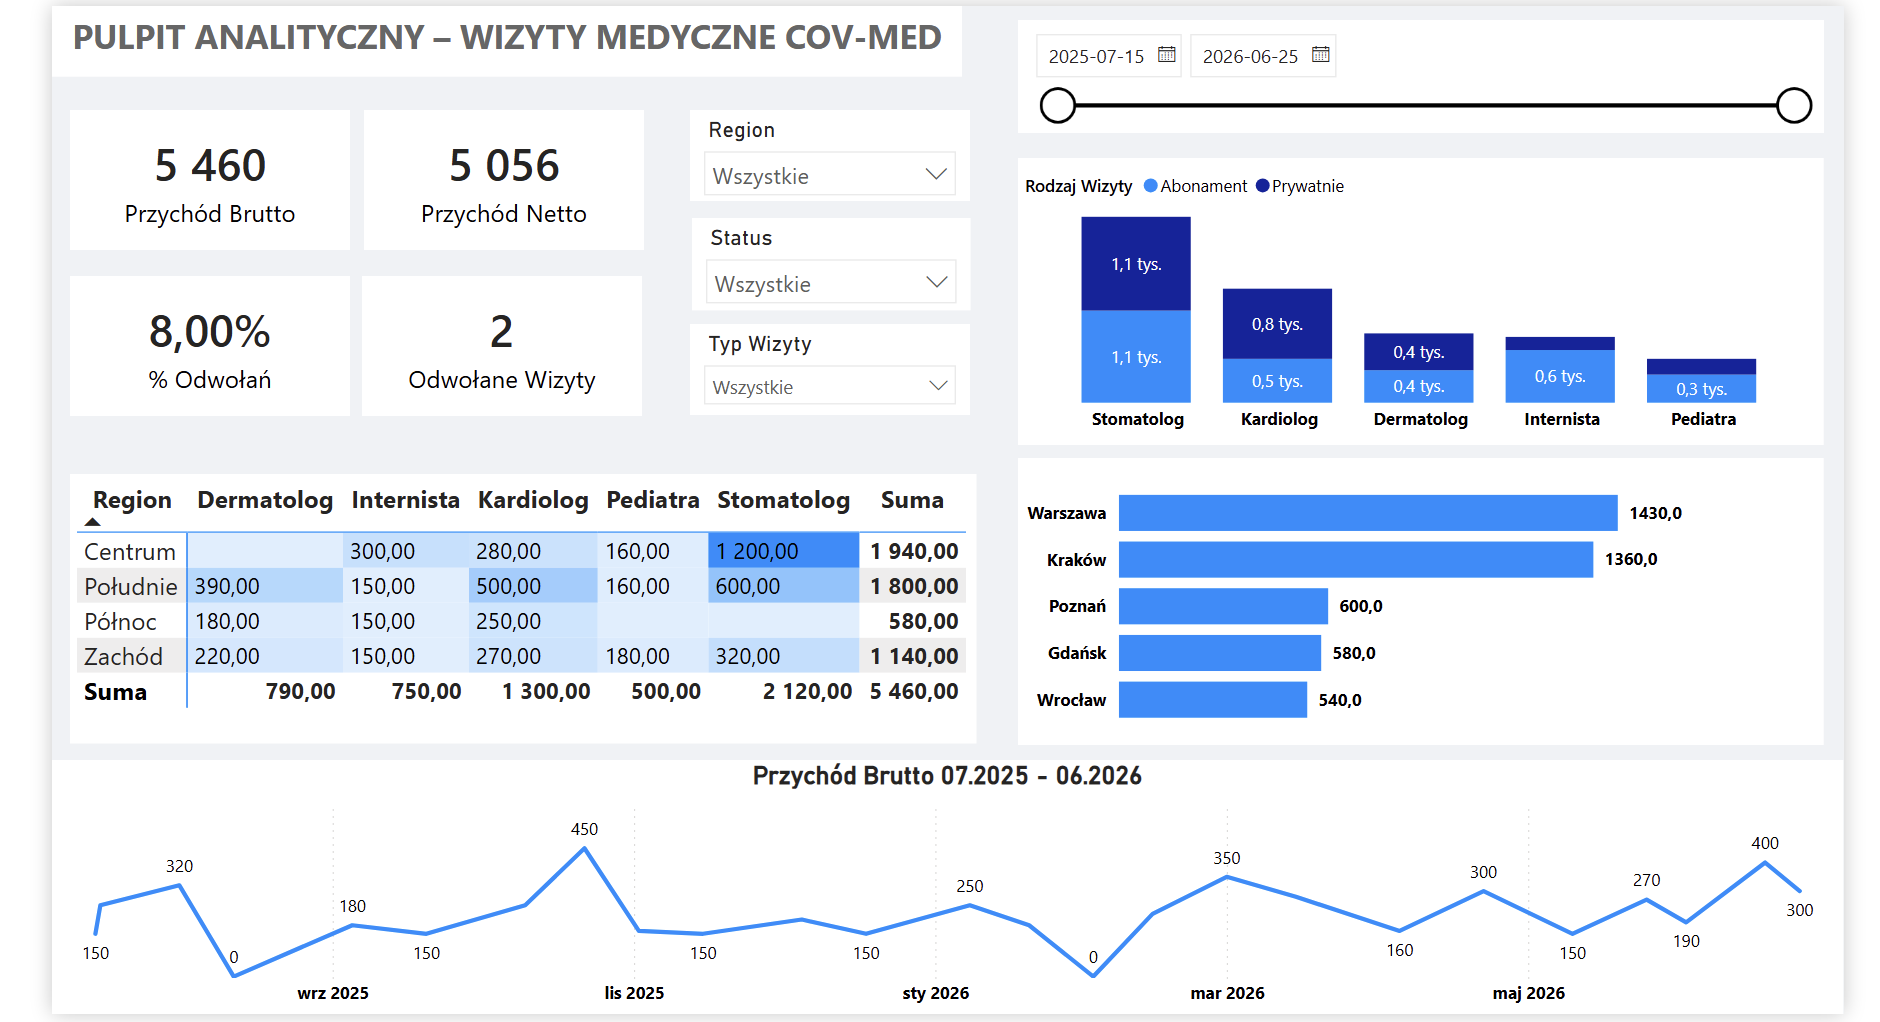

What the dashboard file says about the page in this screenshot:
{"tool":"powerbi","page":{"name":"Wizyty Medyczne","canvas":[1280,720],"ordinal":0},"visuals":[{"type":"cardVisual","fields":{"Data":["fact_Wizyty.Suma Brutto"]},"box":[13.2,60.3,209.2,101.9],"z":0},{"type":"cardVisual","fields":{"Data":["fact_Wizyty.Przychod Netto"]},"box":[222.4,60.3,194.3,101.9],"z":1000},{"type":"lineChart","title":"Suma brutto za okres 07.2025-06.2026","fields":{"Category":["dim_Kalendarz.Date.Odmiana.Hierarchia dat.Rok","dim_Kalendarz.Date.Odmiana.Hierarchia dat.Kwartał","dim_Kalendarz.Date.Odmiana.Hierarchia dat.Miesiąc","dim_Kalendarz.Date.Odmiana.Hierarchia dat.Dzień"],"Y":["fact_Wizyty.Suma Brutto"]},"box":[0,536.7,1279.4,184.7],"z":2000},{"type":"columnChart","title":"Podział na Specjalizacje","fields":{"Category":["fact_Wizyty.Specjalizacja"],"Y":["fact_Wizyty.Suma Brutto"],"Series":["fact_Wizyty.Typ_Wizyty"]},"box":[730.7,108.4,548.7,204.8],"z":3000},{"type":"clusteredBarChart","title":"Podział na miasta","fields":{"Category":["dim_Kliniki.Klinika_Miasto"],"Y":["fact_Wizyty.Suma Brutto"]},"box":[731.4,322.9,548.6,204.3],"z":4000},{"type":"pivotTable","fields":{"Rows":["dim_Kliniki.Region"],"Values":["fact_Wizyty.Suma Brutto"],"Columns":["fact_Wizyty.Specjalizacja"]},"box":[12,322.5,689.2,176.7],"z":5000},{"type":"slicer","fields":{"Values":["fact_Wizyty.Status"]},"box":[452.9,130,200,68.6],"z":6000},{"type":"slicer","fields":{"Values":["dim_Kalendarz.Date"]},"box":[649.4,0,630.3,96.5],"z":7000},{"type":"slicer","fields":{"Values":["dim_Kliniki.Region"]},"box":[452.3,59.9,200,68],"z":8000},{"type":"cardVisual","fields":{"Data":["fact_Wizyty.Liczba Odwolanych Wizyt"]},"box":[222.4,162.1,194.3,106],"z":9000},{"type":"cardVisual","fields":{"Data":["fact_Wizyty.% Odwolanych Wizyt"]},"box":[11.9,162.1,210.6,106],"z":10000},{"type":"textbox","box":[0,0,649.4,50.3],"z":11000},{"type":"slicer","fields":{"Values":["fact_Wizyty.Typ_Wizyty"]},"box":[452.9,200,200,68.6],"z":11001}]}

Visuals, with their boxes on the page's 1280x720 design canvas (x1, y1, x2, y2). These are canvas units, not pixel positions in the 1880x1022 screenshot, which may show the page scaled, cropped or inside an application window:
cardVisual - fact_Wizyty.Suma Brutto: [13,60,222,162]
cardVisual - fact_Wizyty.Przychod Netto: [222,60,417,162]
"Suma brutto za okres 07.2025-06.2026" lineChart: [0,537,1279,721]
"Podział na Specjalizacje" columnChart: [731,108,1279,313]
"Podział na miasta" clusteredBarChart: [731,323,1280,527]
pivotTable - dim_Kliniki.Region x fact_Wizyty.Suma Brutto: [12,322,701,499]
slicer - fact_Wizyty.Status: [453,130,653,199]
slicer - dim_Kalendarz.Date: [649,0,1280,96]
slicer - dim_Kliniki.Region: [452,60,652,128]
cardVisual - fact_Wizyty.Liczba Odwolanych Wizyt: [222,162,417,268]
cardVisual - fact_Wizyty.% Odwolanych Wizyt: [12,162,222,268]
textbox: [0,0,649,50]
slicer - fact_Wizyty.Typ_Wizyty: [453,200,653,269]
